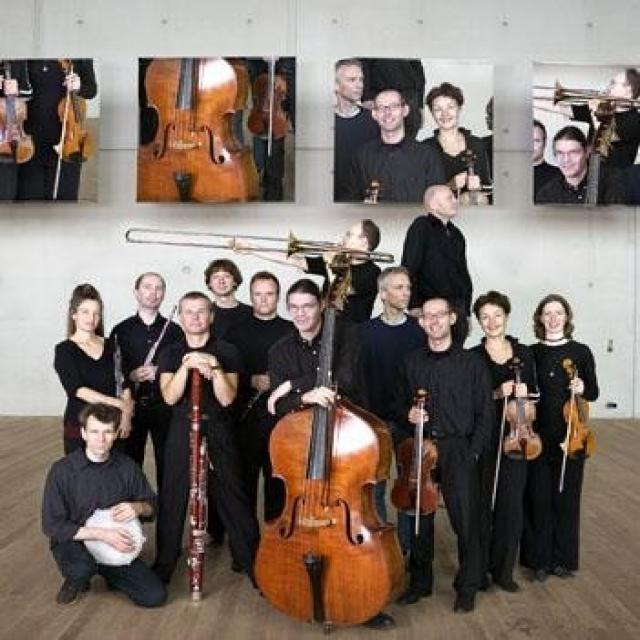violin: (391, 387, 442, 523), (55, 52, 99, 165), (499, 358, 545, 460), (560, 359, 601, 462), (0, 61, 37, 166)
